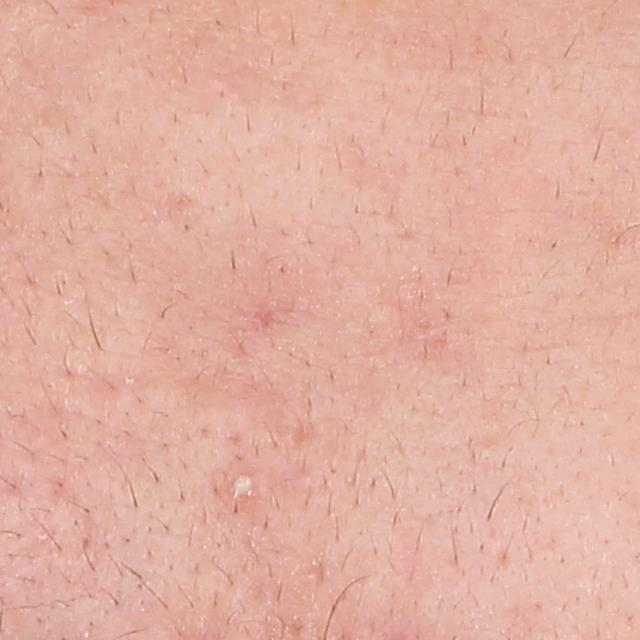pustule: (224, 467, 262, 500)
